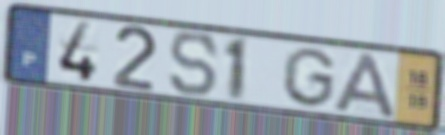1: (222, 34, 255, 106)
2: (112, 24, 159, 94)
4: (55, 19, 99, 84)
A: (331, 50, 399, 121)
G: (279, 45, 338, 109)
S: (168, 30, 221, 99)
